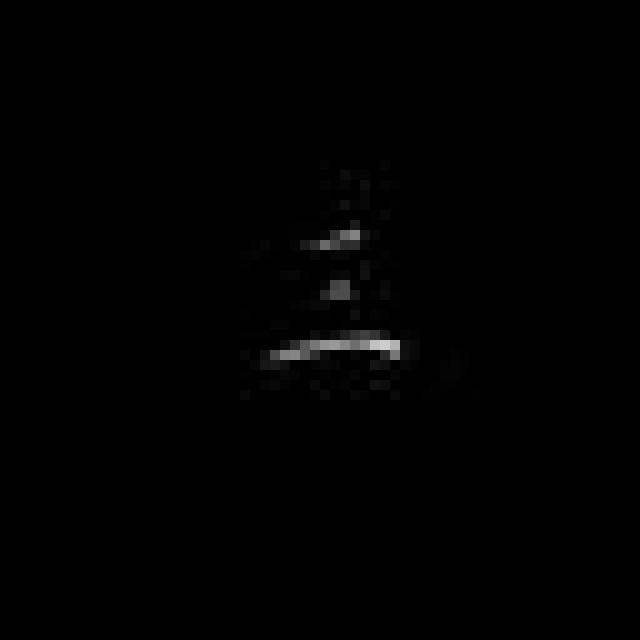3 -three-: (255, 216, 420, 382)
